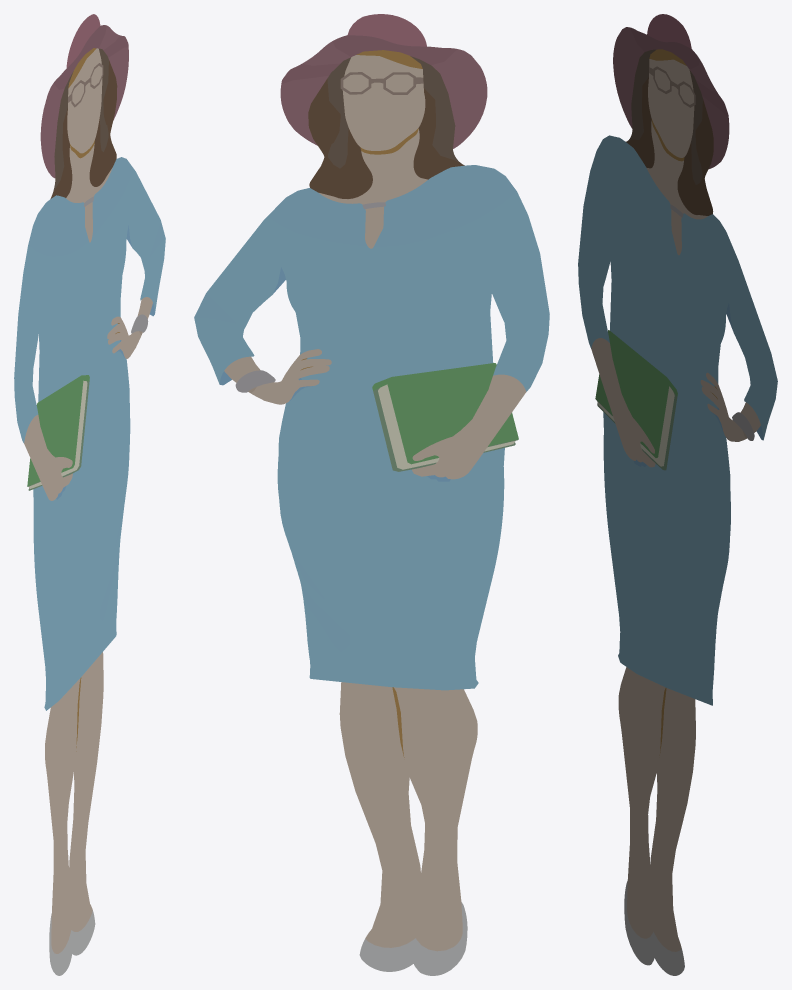
File: modeloTeste.glb
3 renders of one model, left to right at view 1: azimuth 30°, elevation 25°; view 2: azimuth 150°, elevation 25°; view 3: azimuth 270°, elevation 25°, orthographic. The views are drawn at different scales.
Parts seen in each view (by area): view 1: 3DGeom-6, 3DGeom-7, 3DGeom-9, 3DGeom-1, 3DGeom-11, 3DGeom-2, 3DGeom-8, 3DGeom-17, 3DGeom-3, 3DGeom-18, 3DGeom-5, 3DGeom-10; view 2: 3DGeom-6, 3DGeom-7, 3DGeom-9, 3DGeom-1, 3DGeom-11, 3DGeom-2, 3DGeom-8, 3DGeom-17, 3DGeom-3, 3DGeom-18, 3DGeom-5, 3DGeom-10; view 3: 3DGeom-6, 3DGeom-7, 3DGeom-9, 3DGeom-1, 3DGeom-11, 3DGeom-2, 3DGeom-8, 3DGeom-17, 3DGeom-3, 3DGeom-18, 3DGeom-5, 3DGeom-10.
Part boxes in pixels (bbox=[...]): 3DGeom-6: bbox=[14, 169, 165, 710]; 3DGeom-7: bbox=[24, 48, 152, 953]; 3DGeom-9: bbox=[28, 157, 165, 621]; 3DGeom-1: bbox=[27, 375, 89, 486]; 3DGeom-11: bbox=[50, 60, 117, 198]; 3DGeom-2: bbox=[40, 25, 128, 178]; 3DGeom-8: bbox=[52, 48, 108, 194]; 3DGeom-17: bbox=[49, 910, 95, 975]; 3DGeom-3: bbox=[53, 25, 128, 89]; 3DGeom-18: bbox=[66, 14, 100, 67]; 3DGeom-5: bbox=[29, 380, 87, 488]; 3DGeom-10: bbox=[68, 48, 119, 751]; 3DGeom-6: bbox=[194, 191, 549, 690]; 3DGeom-7: bbox=[224, 55, 526, 951]; 3DGeom-9: bbox=[194, 165, 516, 651]; 3DGeom-1: bbox=[372, 363, 518, 464]; 3DGeom-11: bbox=[308, 79, 464, 198]; 3DGeom-2: bbox=[280, 41, 487, 148]; 3DGeom-8: bbox=[327, 56, 461, 168]; 3DGeom-17: bbox=[359, 902, 467, 975]; 3DGeom-3: bbox=[281, 35, 457, 84]; 3DGeom-18: bbox=[347, 14, 426, 46]; 3DGeom-5: bbox=[378, 384, 515, 469]; 3DGeom-10: bbox=[300, 50, 422, 757]; 3DGeom-6: bbox=[578, 151, 777, 705]; 3DGeom-7: bbox=[591, 59, 760, 951]; 3DGeom-9: bbox=[596, 135, 777, 668]; 3DGeom-1: bbox=[595, 330, 677, 457]; 3DGeom-11: bbox=[626, 77, 713, 215]; 3DGeom-2: bbox=[613, 27, 729, 168]; 3DGeom-8: bbox=[628, 49, 702, 184]; 3DGeom-17: bbox=[624, 881, 684, 975]; 3DGeom-3: bbox=[630, 27, 728, 119]; 3DGeom-18: bbox=[647, 14, 691, 48]; 3DGeom-5: bbox=[597, 386, 674, 466]; 3DGeom-10: bbox=[649, 49, 717, 755].
Size of what is drawn, in the model's own units: 0.4889 by 1.76 by 0.33.
